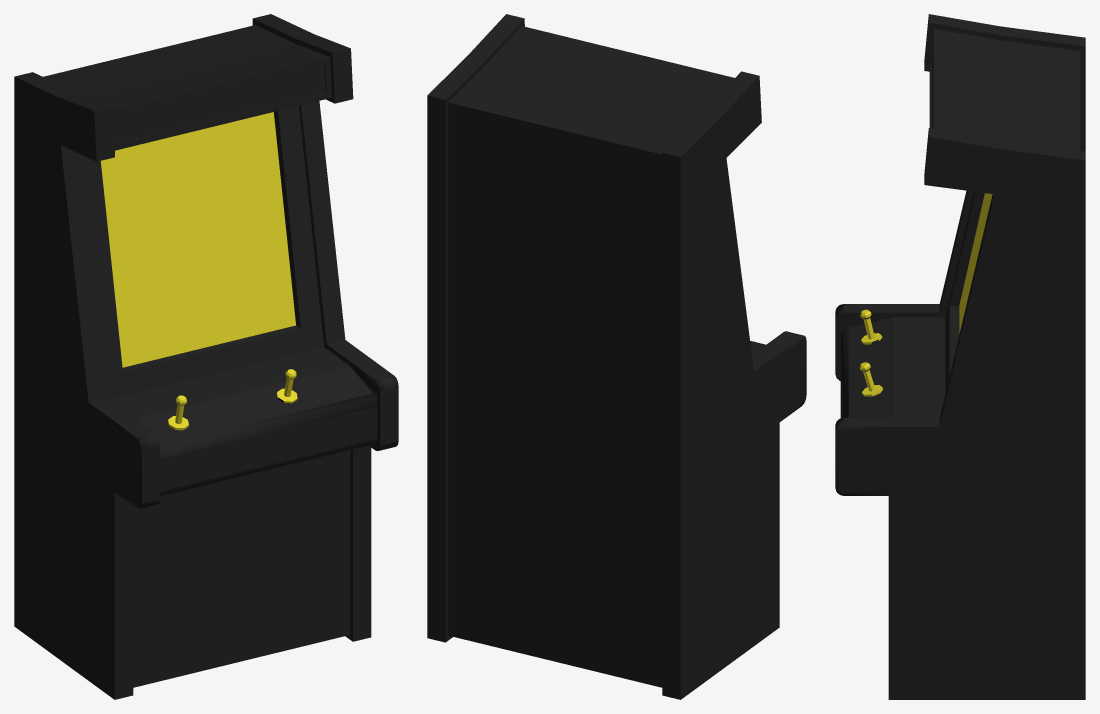
File: compressed_Arcade.glb
3 renders of one model, left to right at view 1: azimuth 30°, elevation 25°; view 2: azimuth 150°, elevation 25°; view 3: azimuth 270°, elevation 25°, orthographic.
Parts seen in each view (by area): view 1: game_consol_2; view 2: game_consol_2; view 3: game_consol_2.
Boxes of the visible parts, box(x1,y1,x2,y2) form: game_consol_2: box(14, 14, 398, 699); game_consol_2: box(427, 14, 806, 699); game_consol_2: box(835, 14, 1085, 699).
Size of the model in its own units: 0.3336 by 0.7128 by 0.2873.
